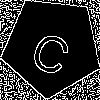C: (26, 21, 78, 78)
